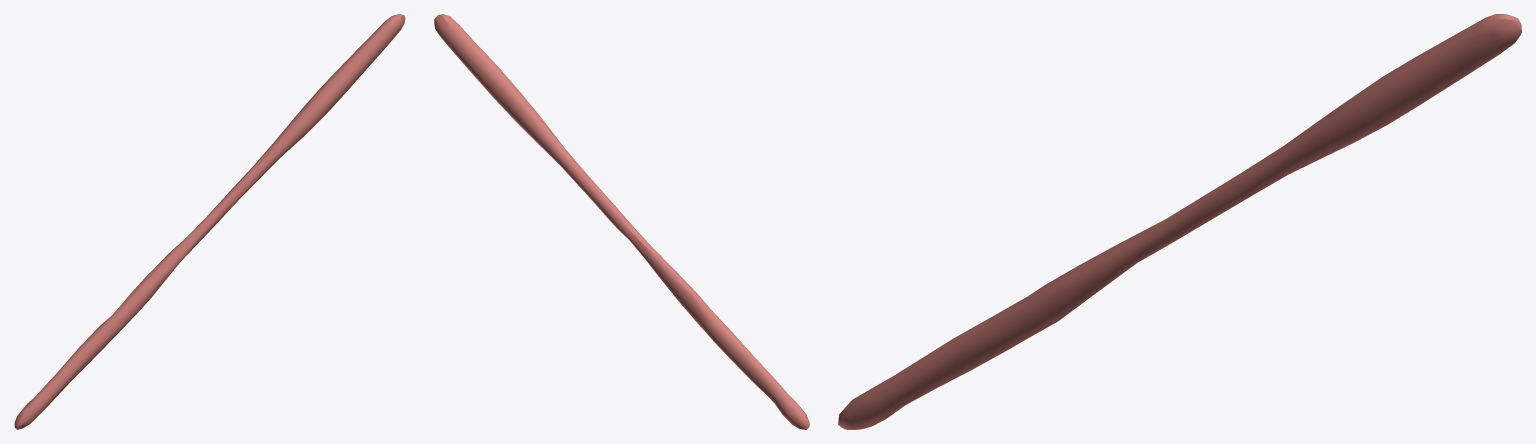
The model's file is fma65081_mm1410.glb.
3 renders of one model, left to right at view 1: azimuth 30°, elevation 25°; view 2: azimuth 150°, elevation 25°; view 3: azimuth 330°, elevation 25°, orthographic. The views are drawn at different scales.
Parts seen in each view (by area): view 1: FMA65081_MM1410; view 2: FMA65081_MM1410; view 3: FMA65081_MM1410.
Part boxes in pixels (x1=…): FMA65081_MM1410: x1=14, y1=14, x2=405, y2=429; FMA65081_MM1410: x1=434, y1=14, x2=809, y2=429; FMA65081_MM1410: x1=838, y1=14, x2=1521, y2=429.
Size of the model in its own units: 0.1115 by 0.0906 by 0.0068.
